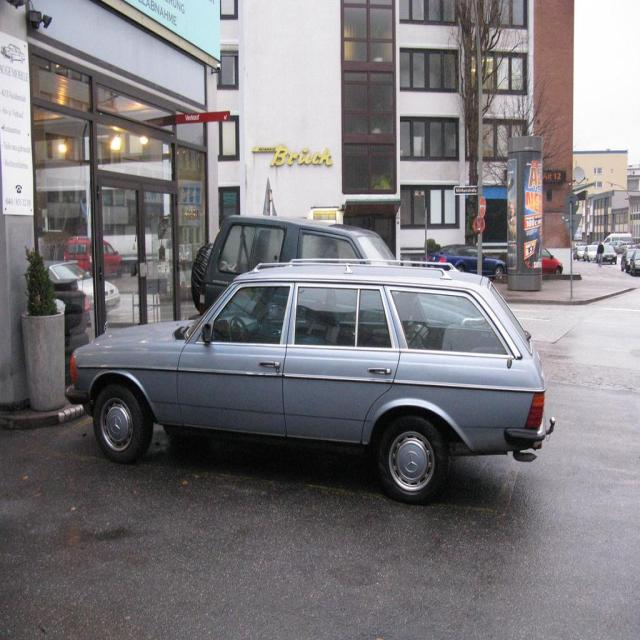car: (67, 260, 545, 497)
